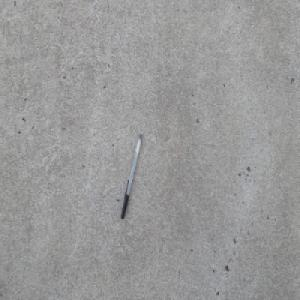Pen: (120, 132, 143, 219)
